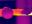Hotspot: (14, 13, 25, 16), (29, 12, 31, 15)
